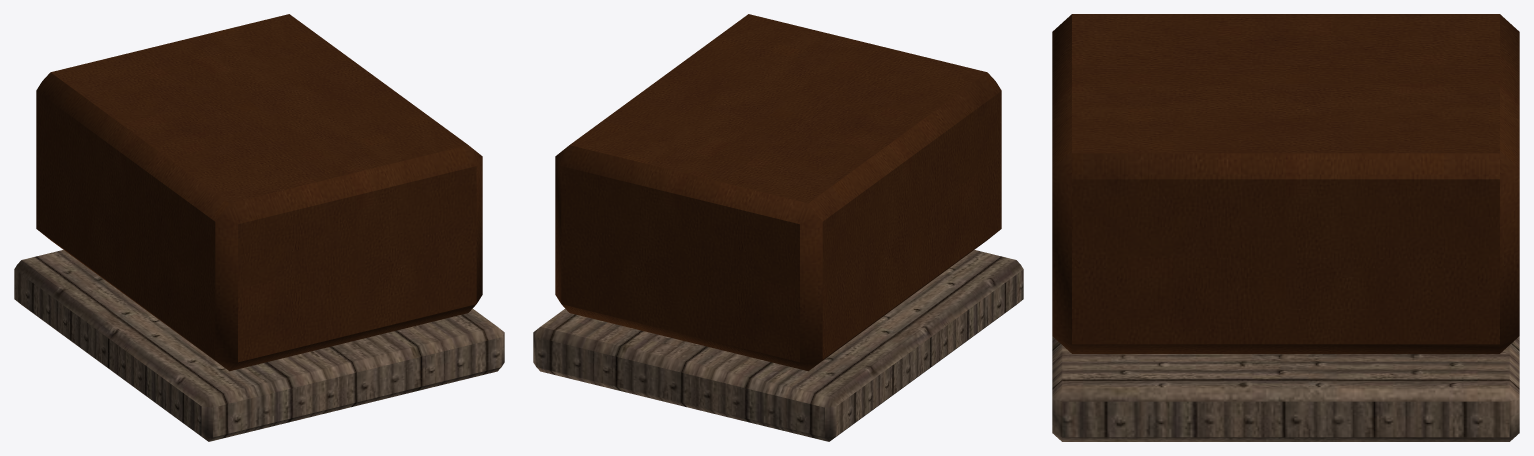
The model's file is prop_bellows.glb.
3 renders of one model, left to right at view 1: azimuth 30°, elevation 25°; view 2: azimuth 150°, elevation 25°; view 3: azimuth 270°, elevation 25°, orthographic. The views are drawn at different scales.
Parts seen in each view (by area): view 1: PROP_ForgeBellows; view 2: PROP_ForgeBellows; view 3: PROP_ForgeBellows.
Part boxes in pixels (box(x1,y1,x2,y2)): PROP_ForgeBellows: box(14, 14, 504, 441); PROP_ForgeBellows: box(533, 14, 1023, 441); PROP_ForgeBellows: box(1052, 14, 1519, 441).
Bounding box in the file's own units: 0.85 × 0.615 × 0.95.
2 materials, 2 textured.
